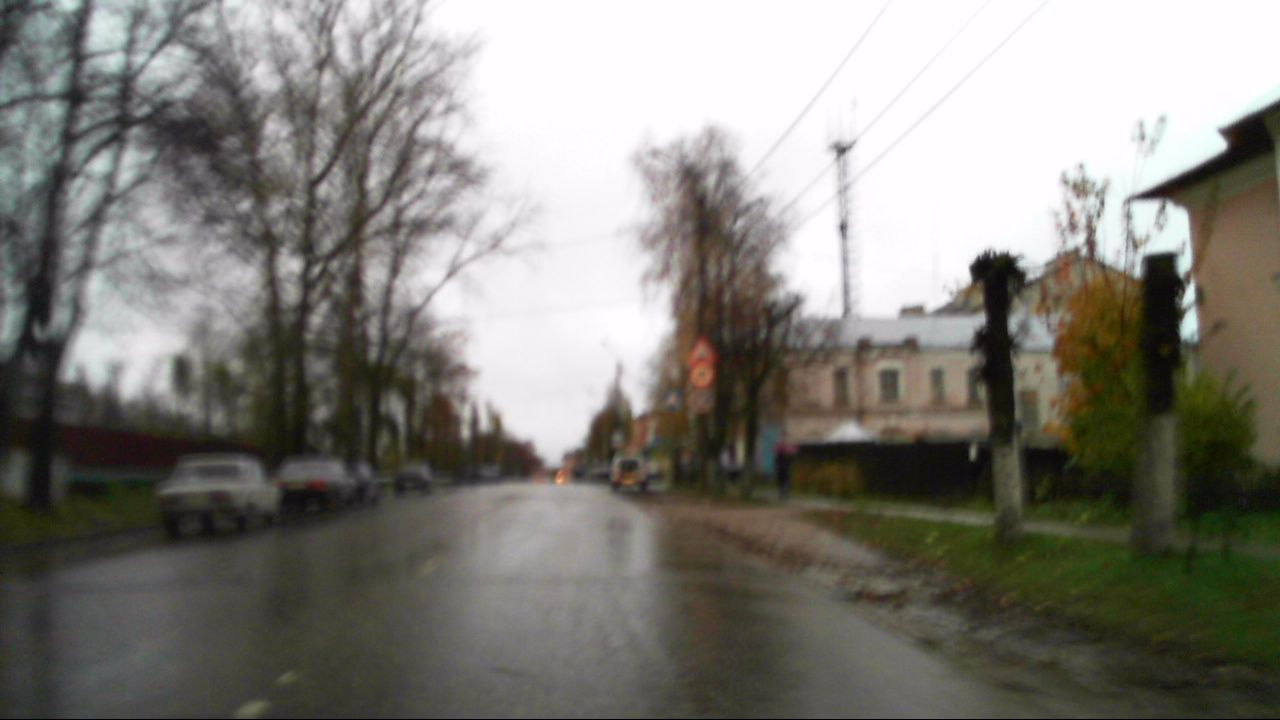No Parking: (687, 388, 715, 415)
